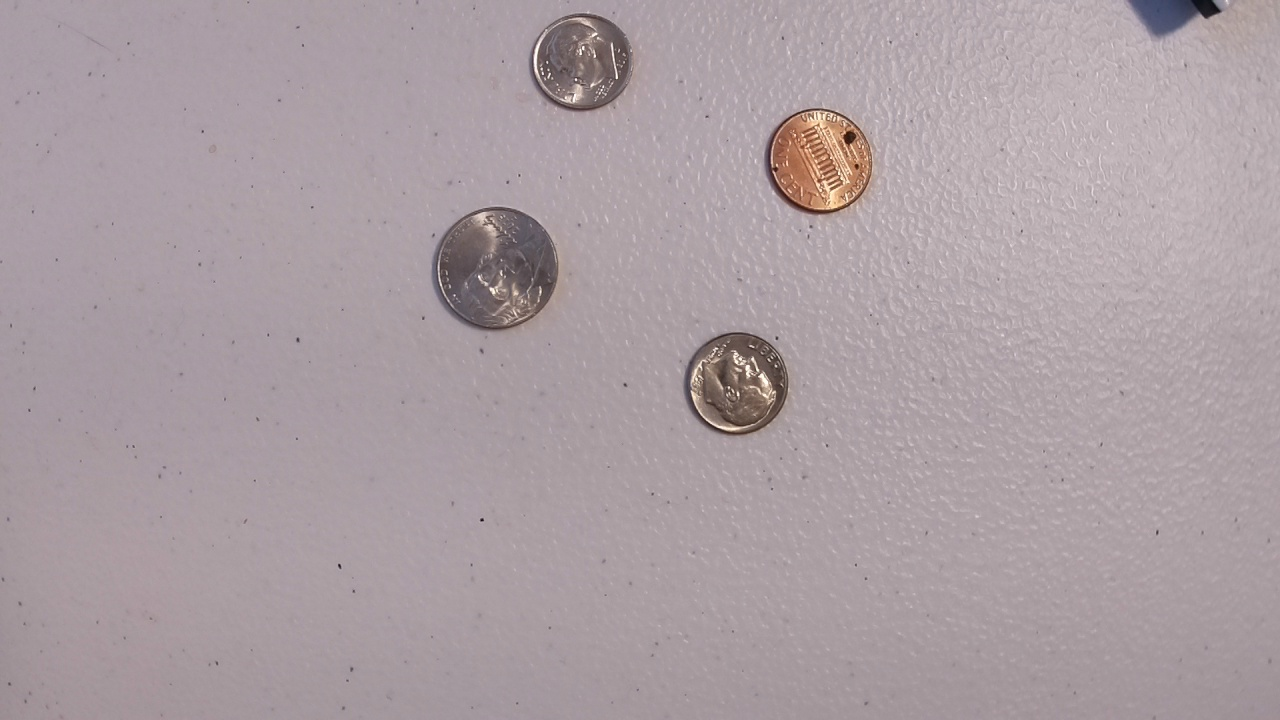dime: (681, 329, 793, 439), (527, 11, 637, 113)
nickel: (425, 201, 571, 335)
penny: (762, 104, 878, 216)
